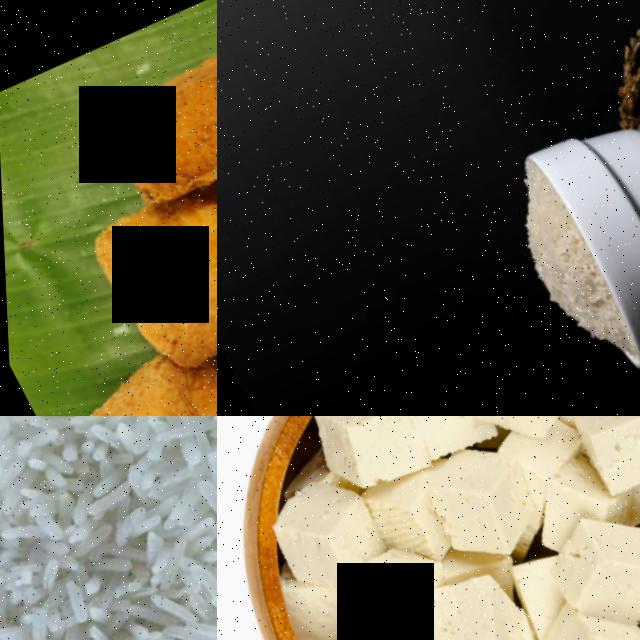tofu: (71, 143, 217, 385), (97, 24, 217, 215), (404, 421, 552, 573), (254, 462, 401, 608), (527, 486, 640, 637), (60, 323, 217, 416), (295, 416, 445, 509), (399, 552, 550, 640), (557, 416, 640, 498), (445, 416, 588, 453), (301, 606, 429, 640)
white rice: (0, 416, 217, 640), (480, 146, 639, 374)
